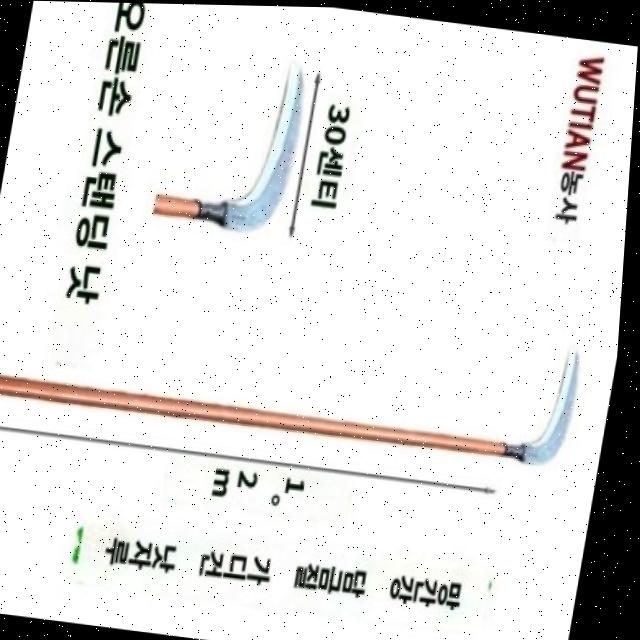sickle: (0, 234, 618, 519), (79, 48, 342, 285)
